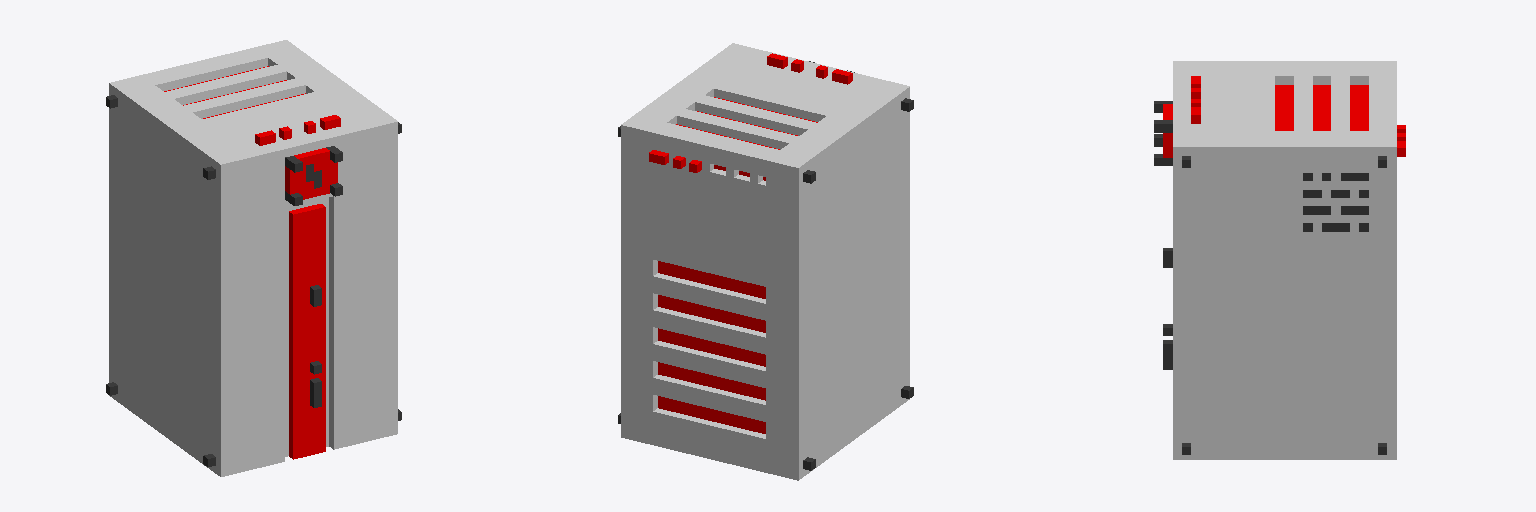
3 views of the same model, side by side, from view 1: azimuth 30°, elevation 25°; view 2: azimuth 150°, elevation 25°; view 3: azimuth 270°, elevation 25° (orthographic).
Visible parts, largest first — view 1: object 1; view 2: object 1; view 3: object 1.
Boxes of the visible parts, x1=… form: object 1: x1=106, y1=40, x2=401, y2=476; object 1: x1=618, y1=43, x2=913, y2=480; object 1: x1=1154, y1=61, x2=1405, y2=459.
Size of the model in its own units: 2.4 by 3.8 by 2.7.
1 materials, 1 textured.